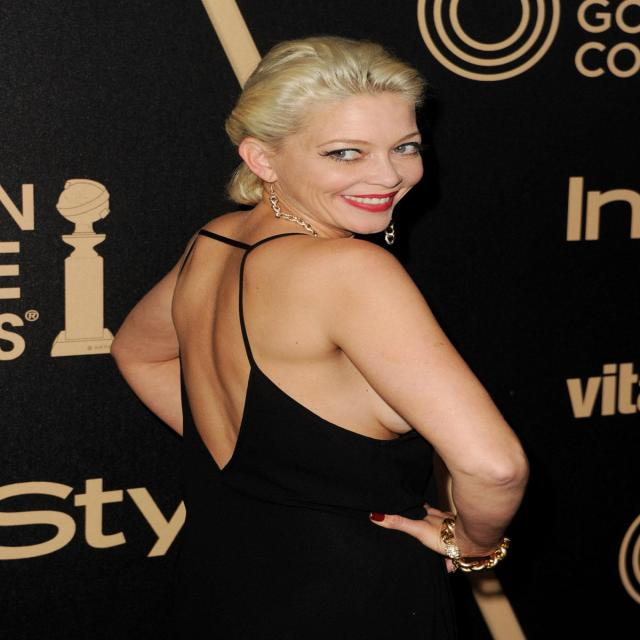no-earmuff: (224, 124, 293, 196)
